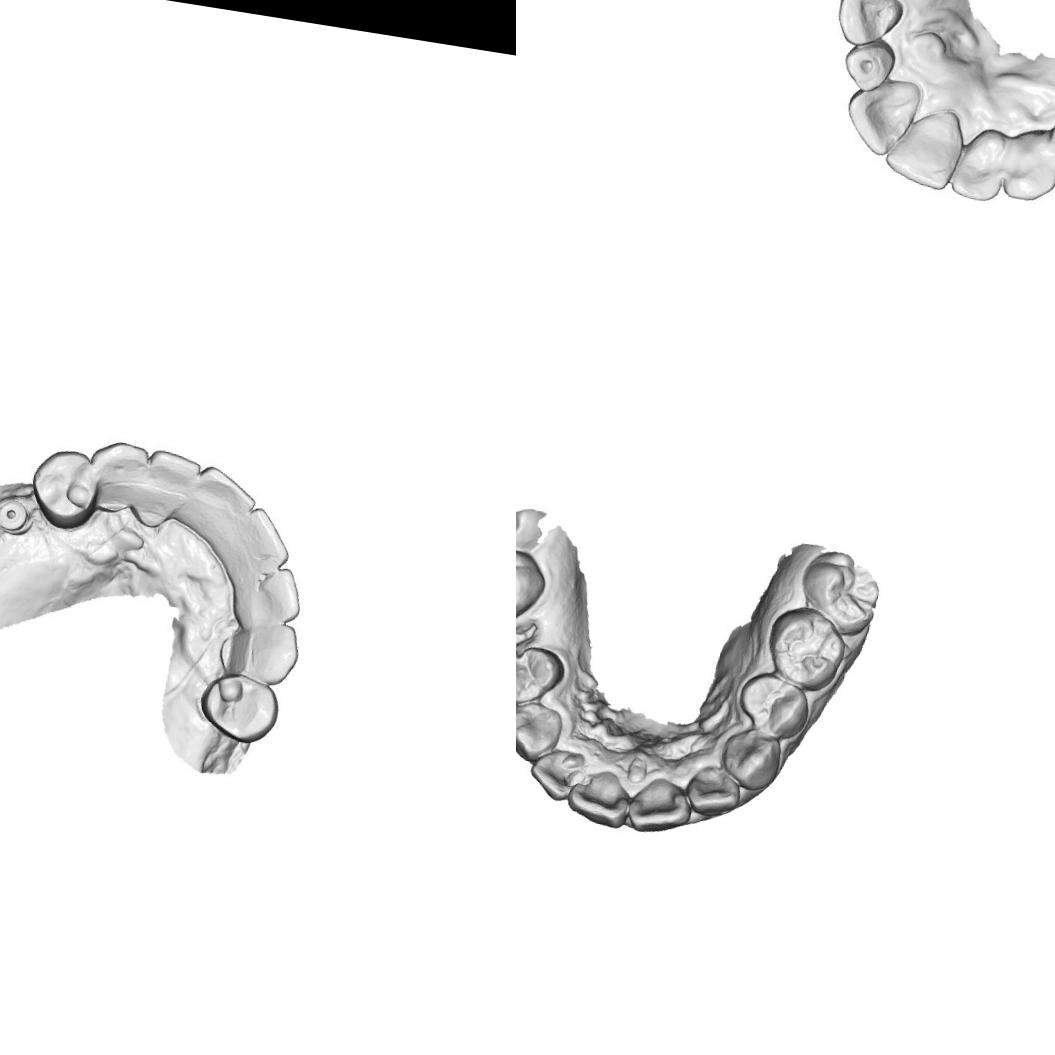canine: (222, 618, 300, 685), (717, 726, 785, 794), (1000, 123, 1055, 207), (88, 439, 150, 510), (830, 0, 904, 53), (516, 697, 565, 767)
implant: (0, 494, 29, 534)
incisor: (882, 104, 968, 194), (841, 76, 921, 161), (943, 128, 1014, 208), (232, 505, 296, 579), (624, 776, 694, 842), (560, 770, 634, 831), (192, 464, 260, 528), (142, 445, 207, 506), (526, 744, 588, 804), (238, 568, 299, 627), (683, 762, 742, 821), (835, 37, 896, 94)
molar: (795, 543, 886, 641), (764, 604, 848, 690), (516, 540, 552, 632)
premolar: (28, 446, 102, 526), (735, 669, 816, 741), (200, 672, 278, 740), (516, 638, 570, 711)
